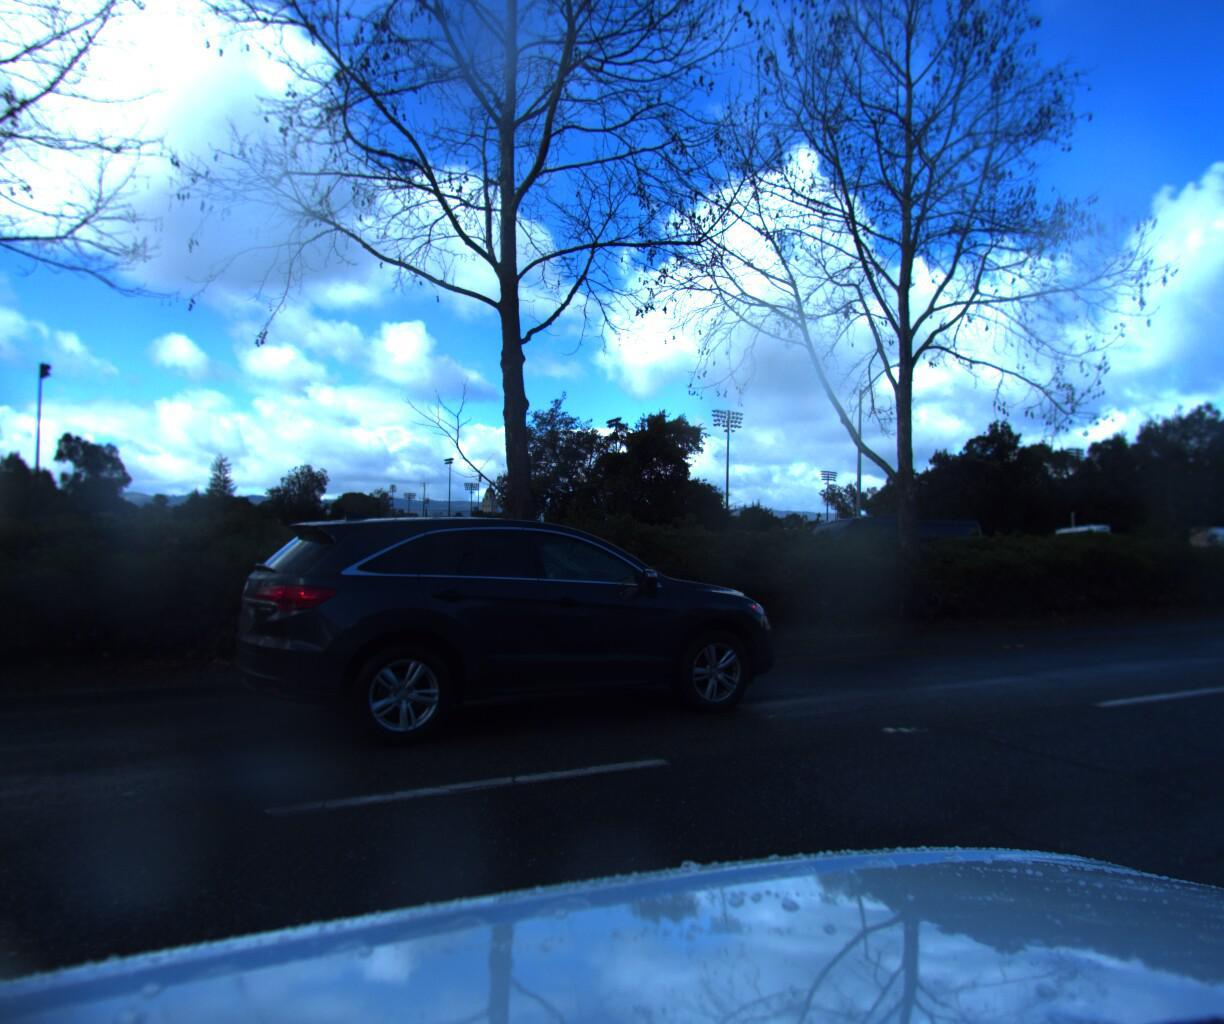car: (235, 503, 797, 773)
truck: (1030, 513, 1224, 590)
